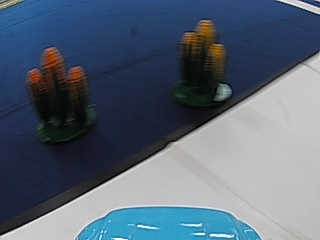corn: (24, 43, 95, 140), (174, 15, 231, 110)
